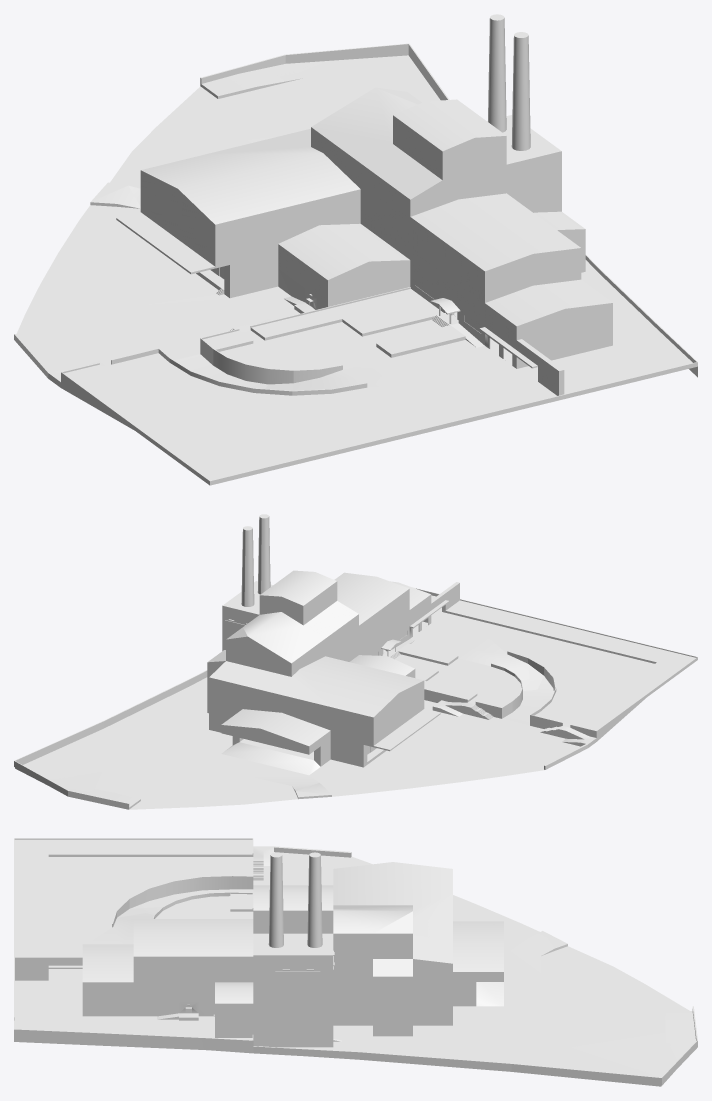
Rendered from sara.glb.
3 renders of one model, top to bottom at view 1: azimuth 30°, elevation 25°; view 2: azimuth 150°, elevation 25°; view 3: azimuth 270°, elevation 25°, orthographic. The views are drawn at different scales.
Visible parts, largest first — view 1: ce_brewery; view 2: ce_brewery; view 3: ce_brewery.
Part boxes in pixels (box(x1,y1,x2,y2)): ce_brewery: box(14, 14, 697, 485); ce_brewery: box(14, 514, 697, 809); ce_brewery: box(14, 838, 697, 1086).
Size of the model in its own units: 219 by 79.7 by 268.
2 materials, 1 textured.
